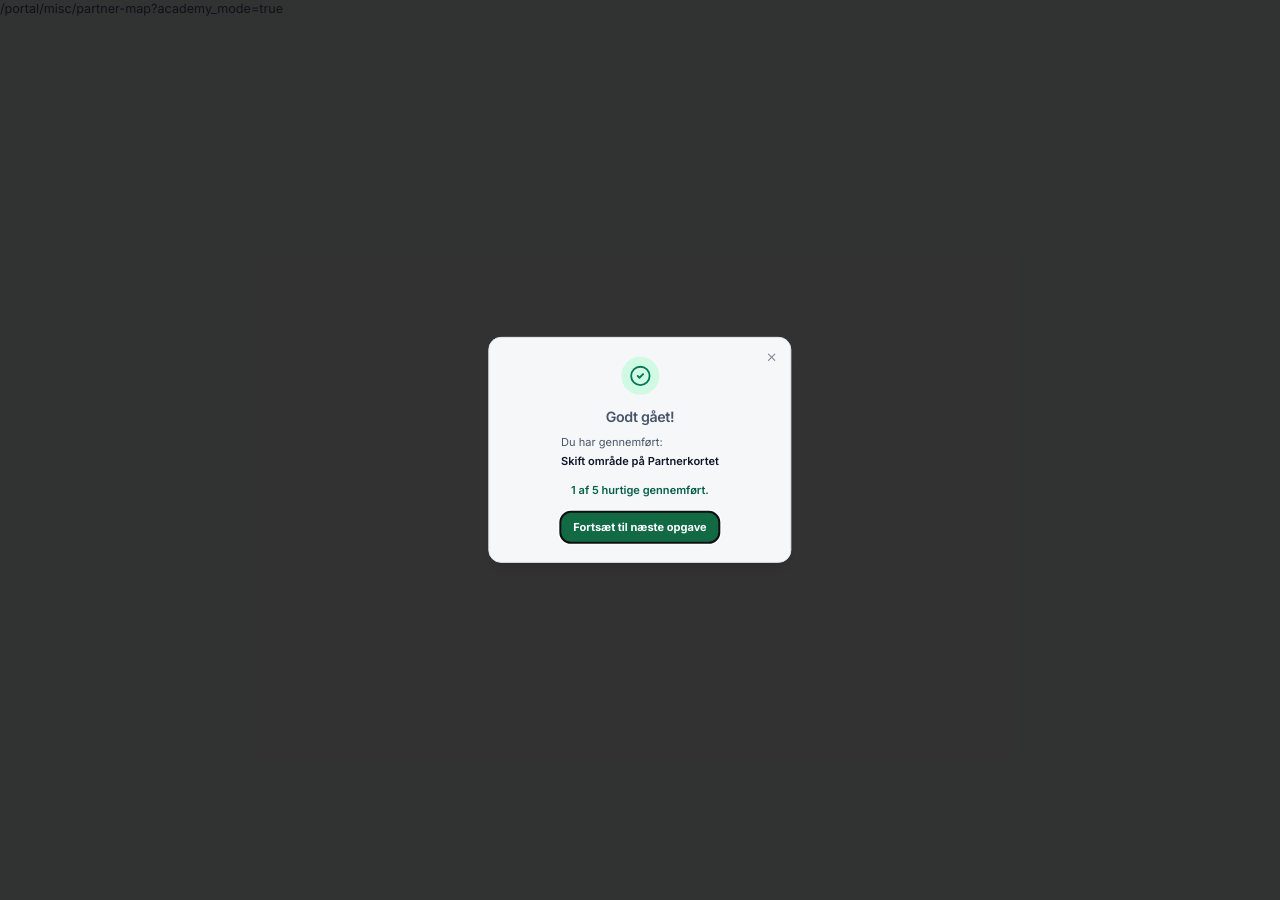
Test: Academy Portal Basics step success › keeps the active case and navigates to the Portal Basics guidance after continue
Expected: the dialog shows "Skift område på Partnerkortet", [561,454,719,468]
Click the button "Fortsæt til næste opgave".
click(640, 527)  # box [561,512,719,543]
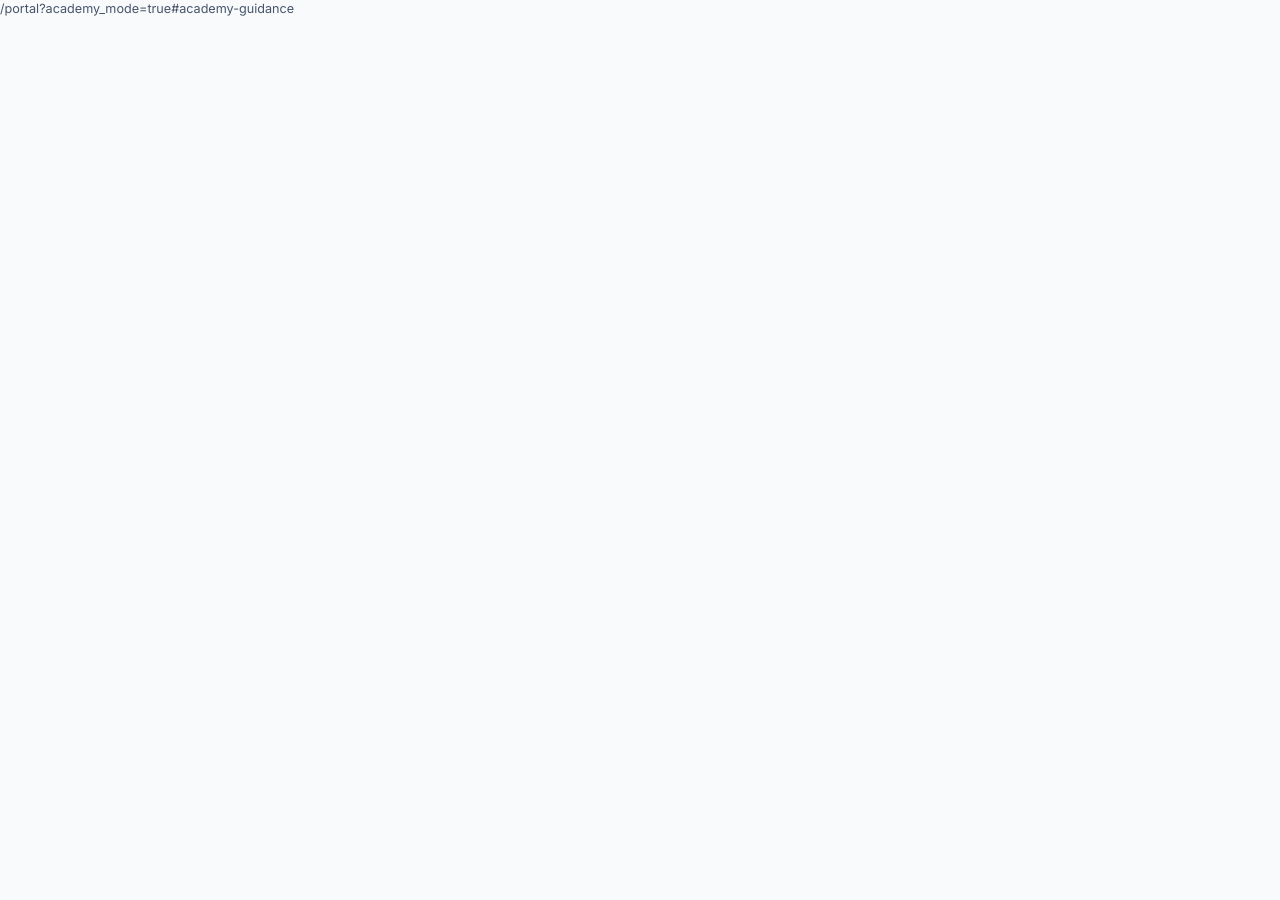
Expected: the text with test id "location" reads "/portal?academy_mode=true#academy-guidance", [0,1,294,16]
